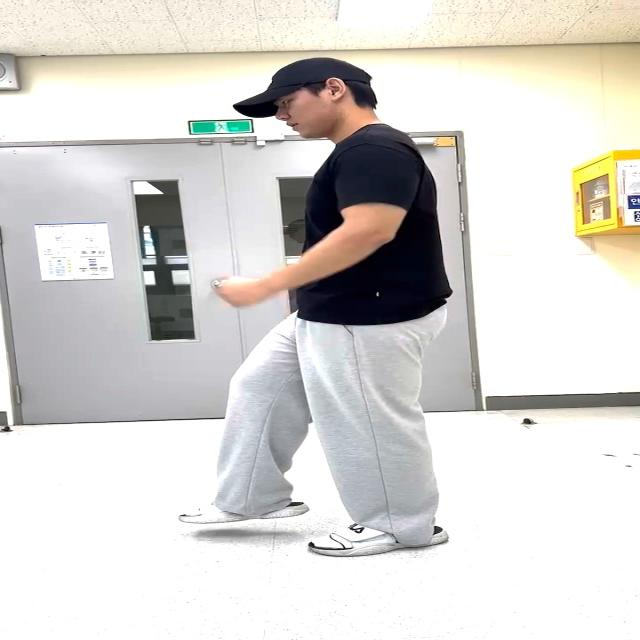leg: (172, 326, 304, 516)
